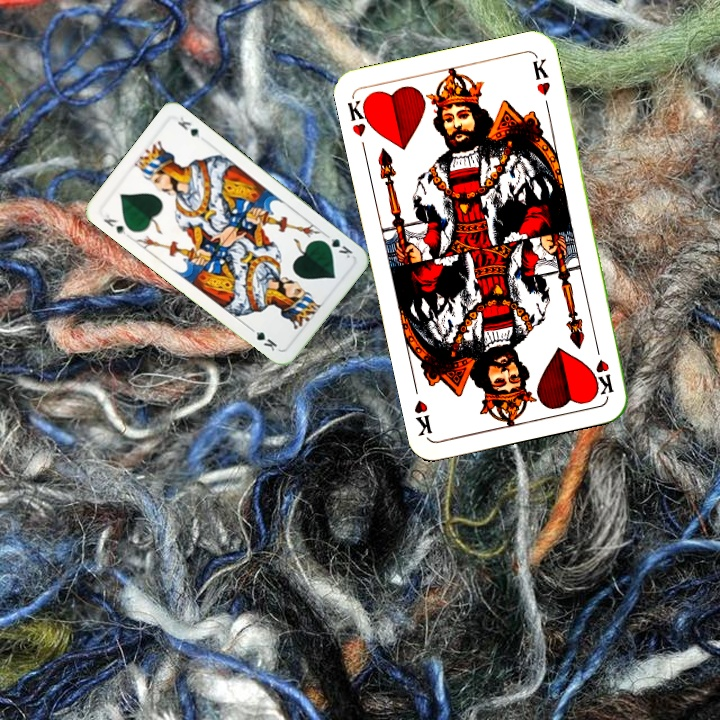GK: (318, 234, 355, 261), (99, 210, 128, 237)
HK: (343, 93, 376, 139), (591, 338, 616, 398)
